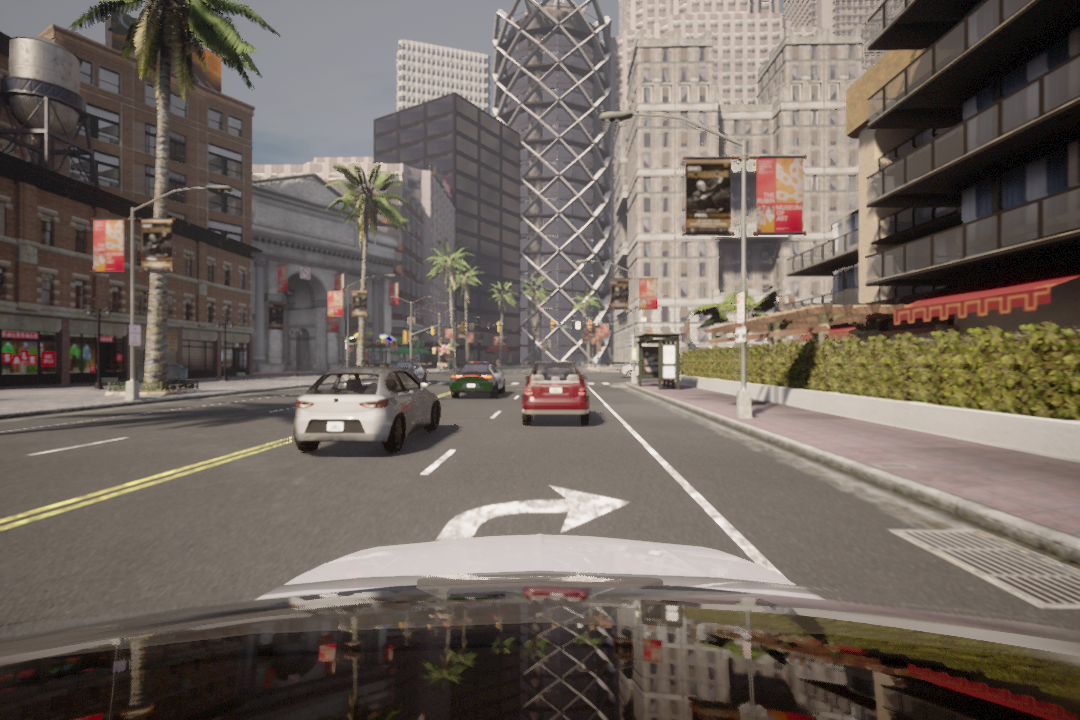RoadSign_right: (426, 480, 649, 548)
